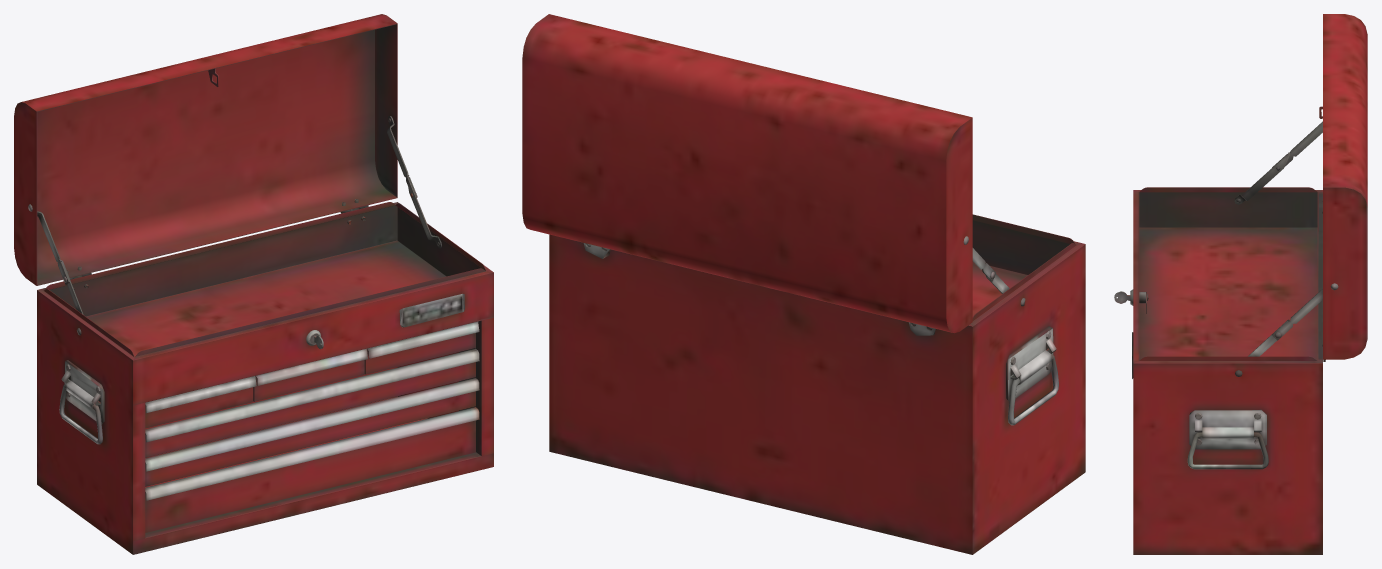
The model's file is tool_chest.glb.
3 views of the same model, side by side, from view 1: azimuth 30°, elevation 25°; view 2: azimuth 150°, elevation 25°; view 3: azimuth 270°, elevation 25° (orthographic). The views are drawn at different scales.
Visible parts, largest first — view 1: metal_tool_chest_chest, metal_tool_chest_lid, metal_tool_chest_hinge_lid, metal_tool_chest_hinge_chest, metal_tool_chest_handle_left; view 2: metal_tool_chest_chest, metal_tool_chest_lid, metal_tool_chest_handle_left; view 3: metal_tool_chest_chest, metal_tool_chest_lid, metal_tool_chest_hinge_lid, metal_tool_chest_hinge_chest, metal_tool_chest_handle_right, metal_tool_chest_lock.
Boxes of the visible parts, x1,y1,x2,y2 form: metal_tool_chest_chest: [37, 202, 493, 554]; metal_tool_chest_lid: [14, 14, 397, 285]; metal_tool_chest_hinge_lid: [28, 116, 417, 285]; metal_tool_chest_hinge_chest: [59, 175, 441, 335]; metal_tool_chest_handle_left: [59, 383, 102, 444]; metal_tool_chest_chest: [549, 214, 1085, 554]; metal_tool_chest_lid: [522, 14, 972, 333]; metal_tool_chest_handle_left: [1008, 354, 1058, 425]; metal_tool_chest_chest: [1132, 187, 1325, 554]; metal_tool_chest_lid: [1319, 14, 1367, 359]; metal_tool_chest_hinge_lid: [1272, 121, 1338, 340]; metal_tool_chest_hinge_chest: [1234, 152, 1290, 376]; metal_tool_chest_handle_right: [1187, 432, 1268, 469]; metal_tool_chest_lock: [1114, 289, 1148, 313].
Size of the model in its own units: 0.6841 by 0.6518 by 0.4072.
1 material, 1 textured.
